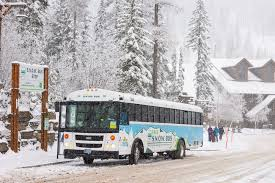bus: (54, 88, 205, 165)
